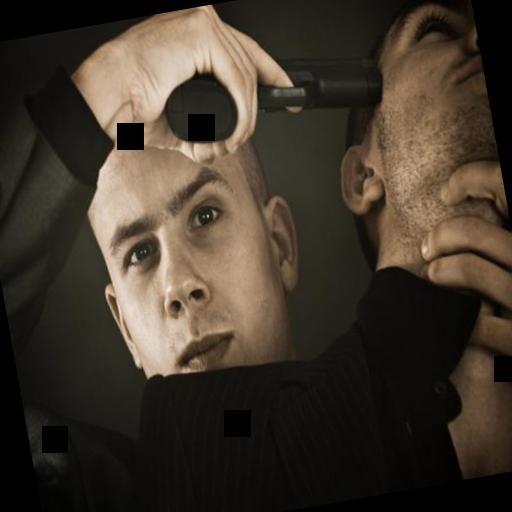Handgun: (154, 34, 386, 142)
